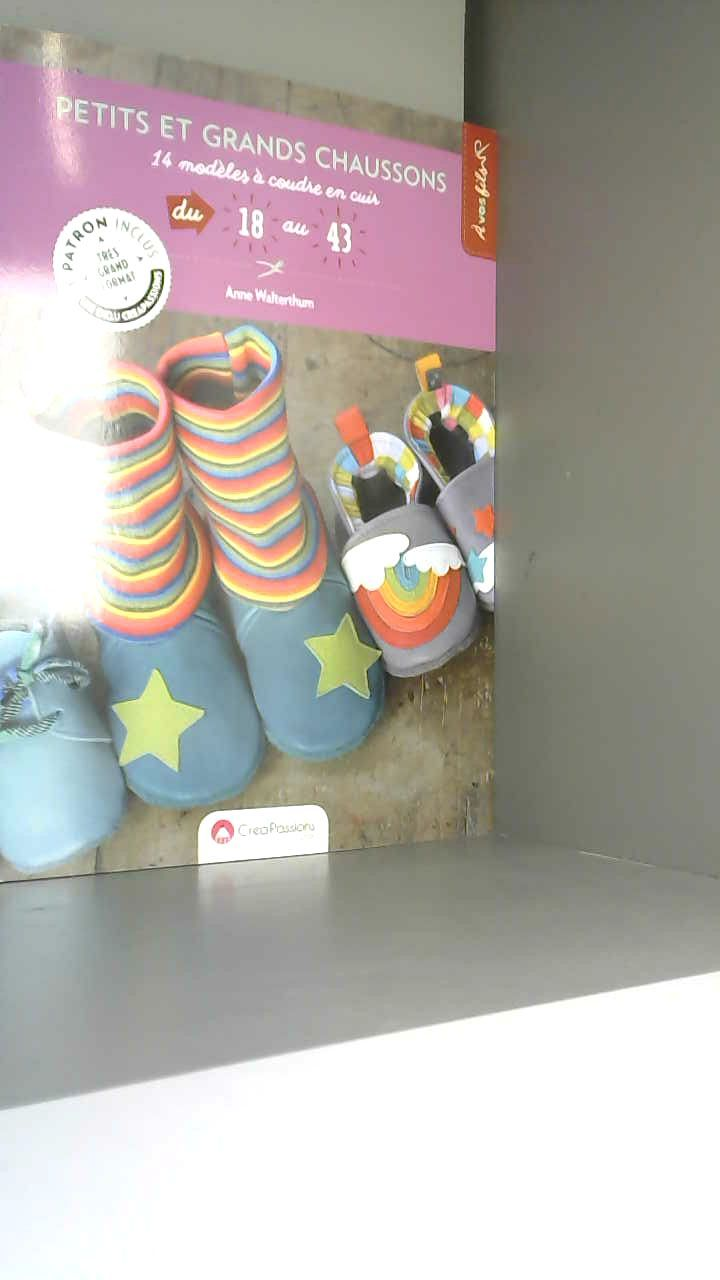book: (0, 4, 551, 920)
